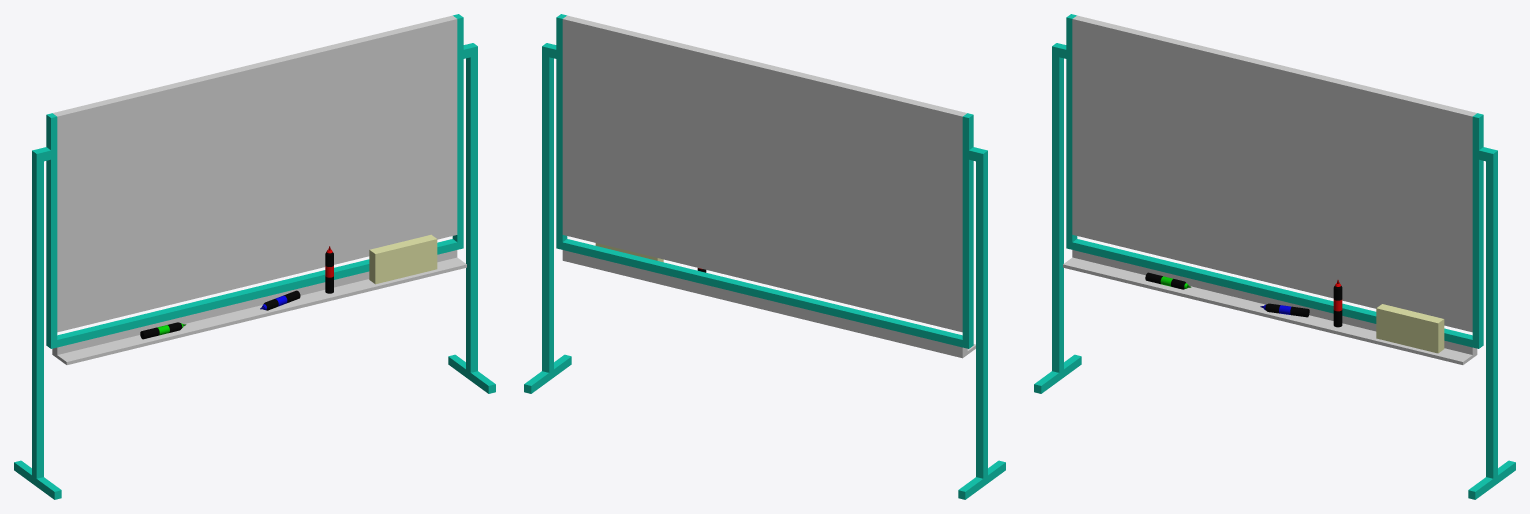
File: Whiteboard.fbx
3 renders of one model, left to right at view 1: azimuth 30°, elevation 25°; view 2: azimuth 150°, elevation 25°; view 3: azimuth 330°, elevation 25°, orthographic.
Visible parts, largest first — view 1: Whiteboard; view 2: Whiteboard; view 3: Whiteboard.
Part boxes in pixels (x1,y1,x2,y2): Whiteboard: (14,14,495,499); Whiteboard: (524,14,1005,499); Whiteboard: (1034,14,1515,499).
Bounding box in the file's own units: 214 × 169 × 34.
